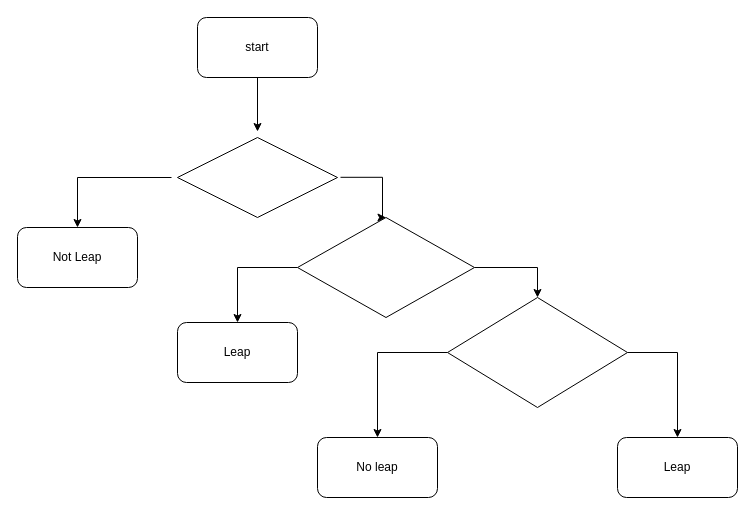
Image size: 755x515. Some labels were removed from this diagram. The centre of each missing label's shape, as x and y in pixels:
is it cleanly diviisible by 100?: point (385, 267)
is it cleanly diviisible by 400?: point (537, 352)
is it cleanly diviisible by 4?: point (257, 177)
